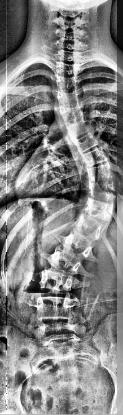Vertebrae: (26, 297, 84, 326), (29, 272, 83, 300), (40, 252, 90, 278), (52, 120, 107, 142), (78, 180, 123, 203), (43, 107, 104, 123), (80, 160, 120, 184), (46, 90, 90, 111), (57, 237, 95, 260), (70, 221, 110, 241), (78, 202, 118, 222), (65, 134, 109, 152), (48, 47, 90, 65), (72, 151, 118, 167), (47, 62, 86, 80), (46, 79, 86, 95)
